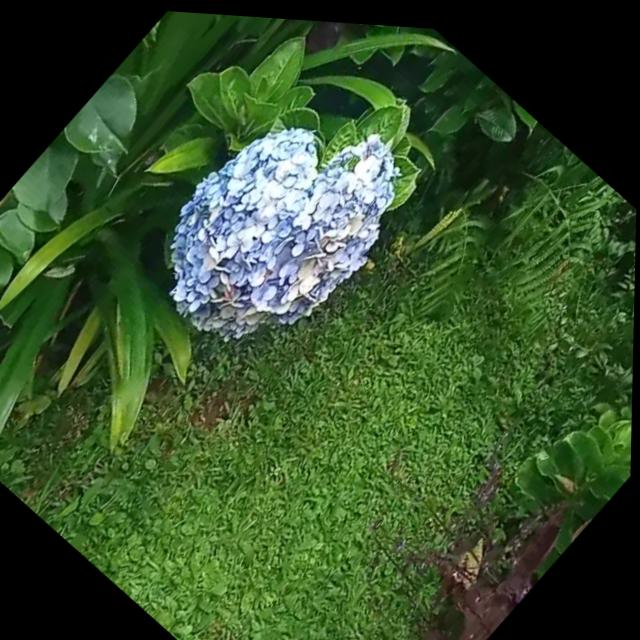Flower: (121, 47, 442, 395)
